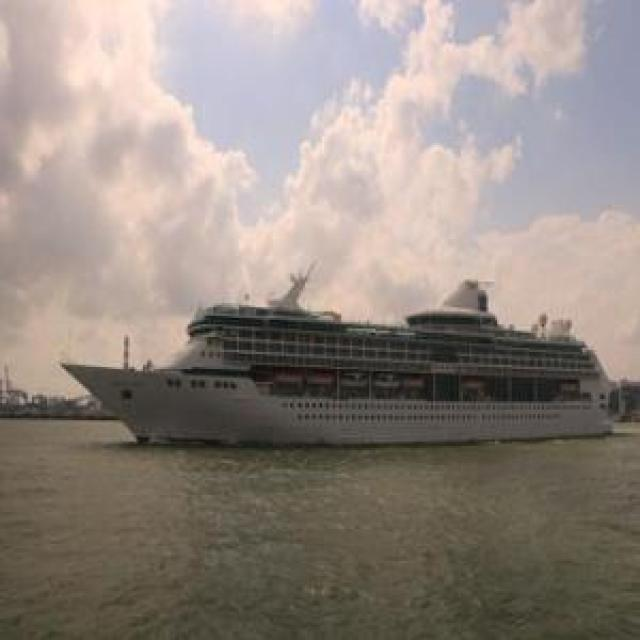passenger ship: (60, 280, 614, 443)
